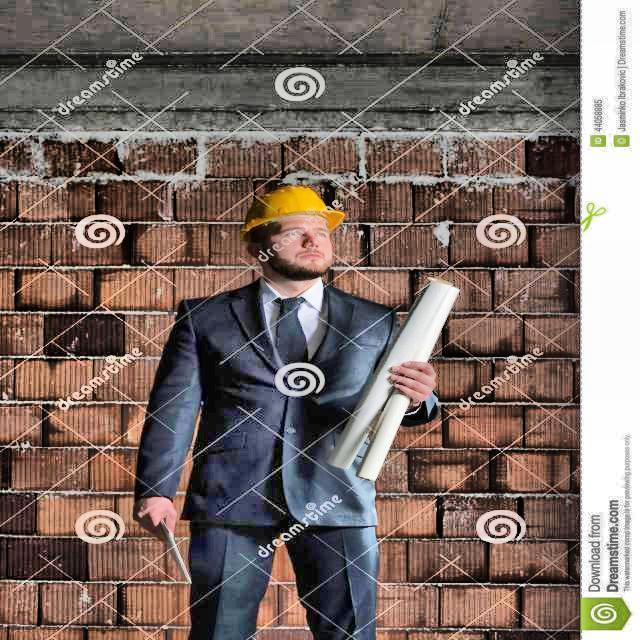person: (148, 183, 432, 640)
